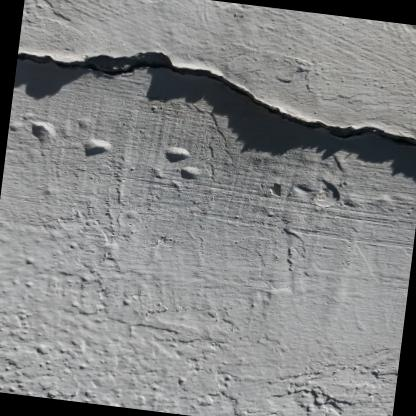crack: (16, 49, 416, 146)
